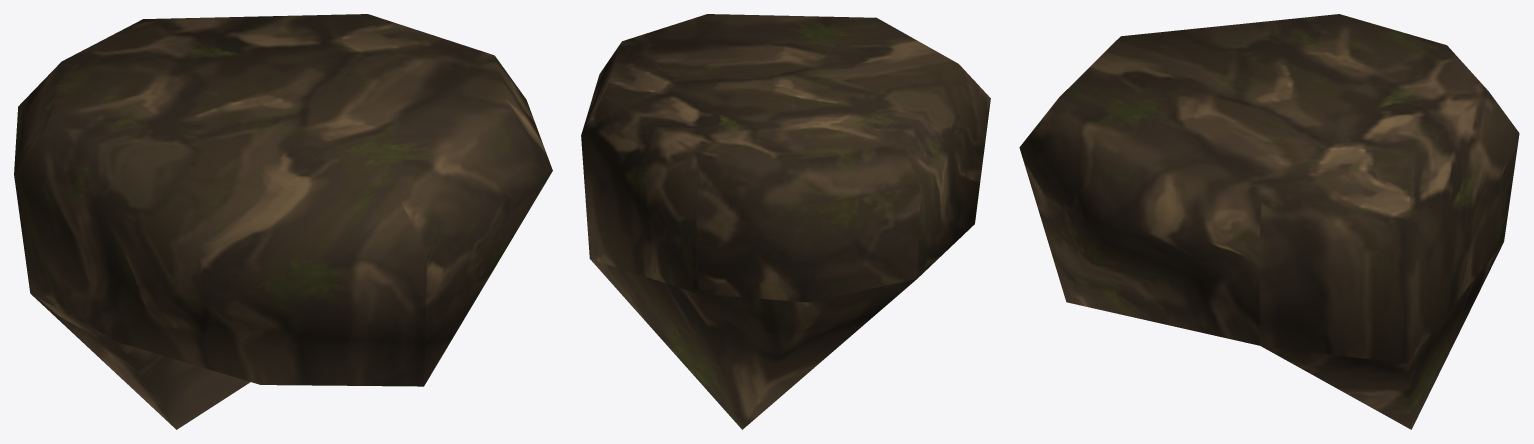
File: F2_wujian_02.FBX
The picture shows the model from 3 angles, left to right: view 1: azimuth 30°, elevation 25°; view 2: azimuth 150°, elevation 25°; view 3: azimuth 270°, elevation 25°; orthographic projection. The views are drawn at different scales.
Visible parts, largest first — view 1: Cylinder39; view 2: Cylinder39; view 3: Cylinder39.
Part boxes in pixels (bbox=[...]): Cylinder39: bbox=[14, 14, 552, 429]; Cylinder39: bbox=[581, 14, 990, 429]; Cylinder39: bbox=[1019, 14, 1519, 429].
Bounding box in the file's own units: 266 × 208 × 275.
